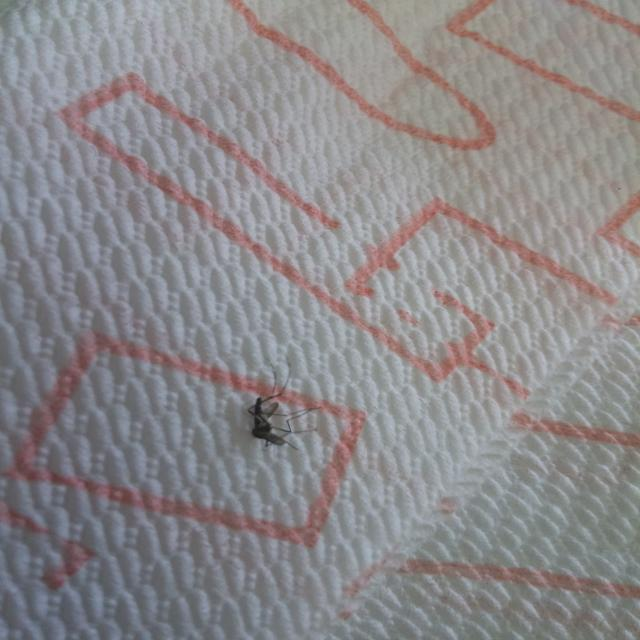albopictus: (235, 356, 332, 456)
